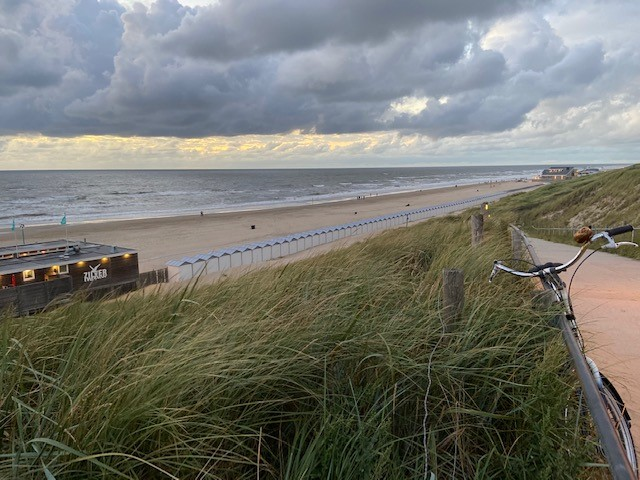zilvermeeuw: (1, 233, 154, 321)
